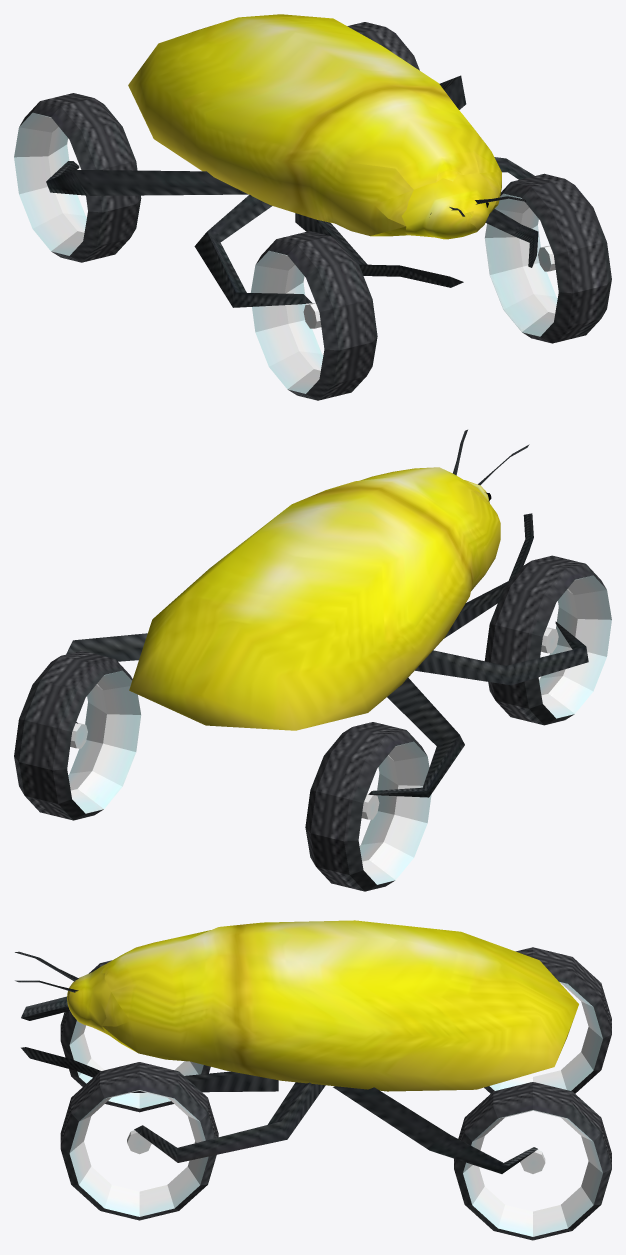
File: beetle.glb
The picture shows the model from 3 angles, top to bottom: view 1: azimuth 30°, elevation 25°; view 2: azimuth 150°, elevation 25°; view 3: azimuth 270°, elevation 25°; orthographic projection. The views are drawn at different scales.
Visible parts, largest first — view 1: ZtoY, wheel4 (×4), legs4; view 2: ZtoY, wheel4 (×3), legs4; view 3: ZtoY, wheel4 (×4), legs4.
Part boxes in pixels (<box>): ZtoY: <box>128,14,501,239</box>; wheel4 (×4): <box>14,22,611,400</box>; legs4: <box>46,75,538,307</box>; ZtoY: <box>129,467,500,730</box>; wheel4 (×3): <box>14,555,611,891</box>; legs4: <box>66,513,588,797</box>; ZtoY: <box>67,920,578,1091</box>; wheel4 (×4): <box>60,947,611,1240</box>; legs4: <box>21,996,537,1173</box>.
Bounding box in the file's own units: 4.87 × 2.95 × 6.89.
Materials: 5 (5 with a texture image).
